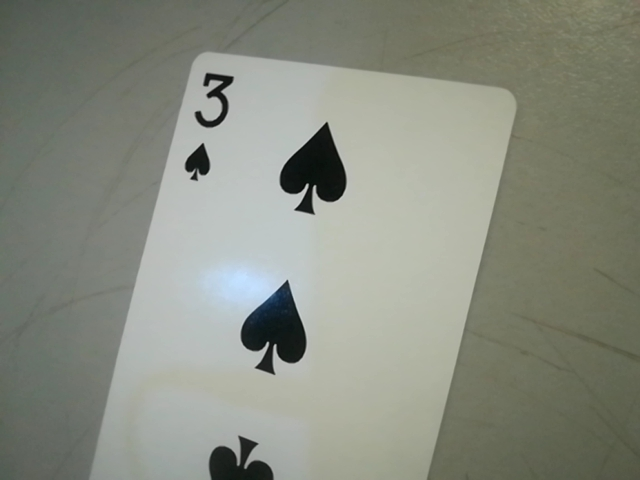ht 3: (171, 63, 241, 190)
